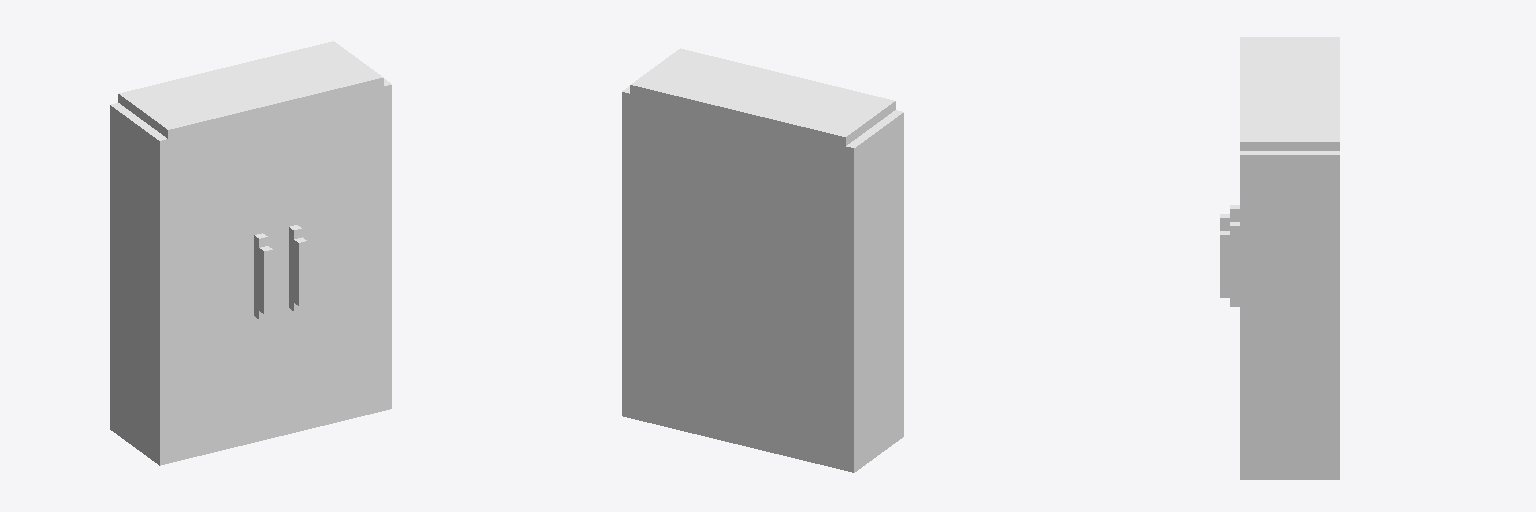
The model's file is Armoire-0.obj.
The picture shows the model from 3 angles: view 1: azimuth 30°, elevation 25°; view 2: azimuth 150°, elevation 25°; view 3: azimuth 270°, elevation 25°; orthographic projection.
Visible parts, largest first — view 1: object 1; view 2: object 1; view 3: object 1.
Boxes of the visible parts, x1,y1,x2,y2 form: object 1: [110, 41, 391, 465]; object 1: [622, 48, 903, 472]; object 1: [1220, 37, 1339, 479].
Size of the model in its own units: 2.7 by 3.7 by 1.2.